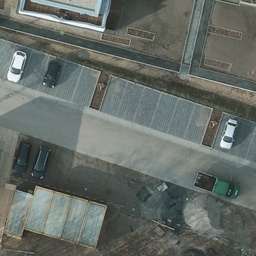car: (30, 145, 54, 178), (217, 118, 239, 152), (14, 137, 34, 174), (7, 49, 26, 81), (41, 59, 59, 88)
